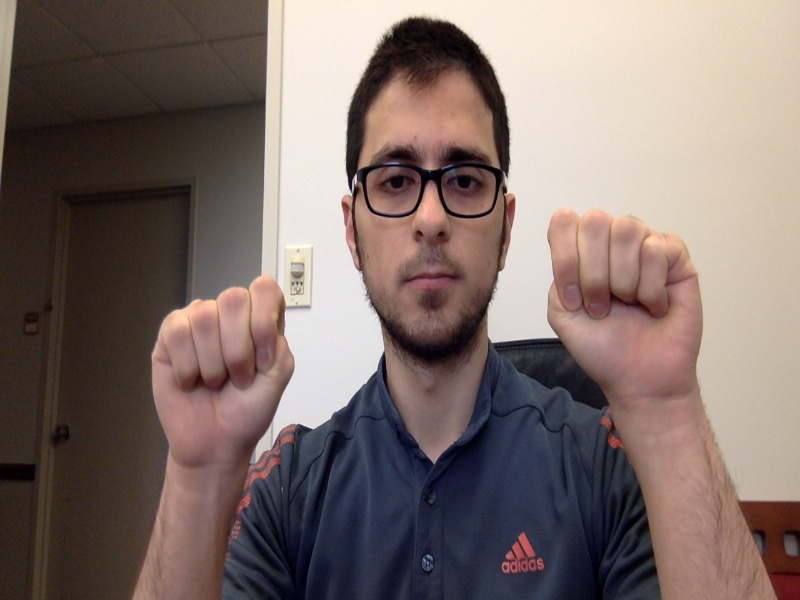0-hand: (549, 209, 702, 406), (151, 277, 294, 464)
